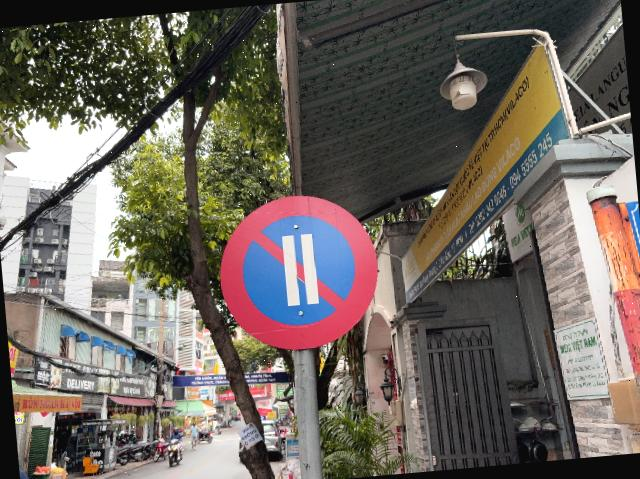cam-do-xe-ngay-chan: (212, 188, 386, 357)
